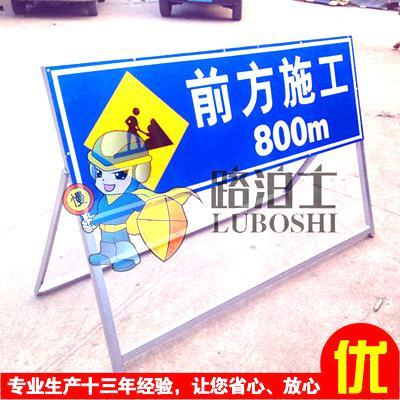sign: (58, 47, 363, 283)
